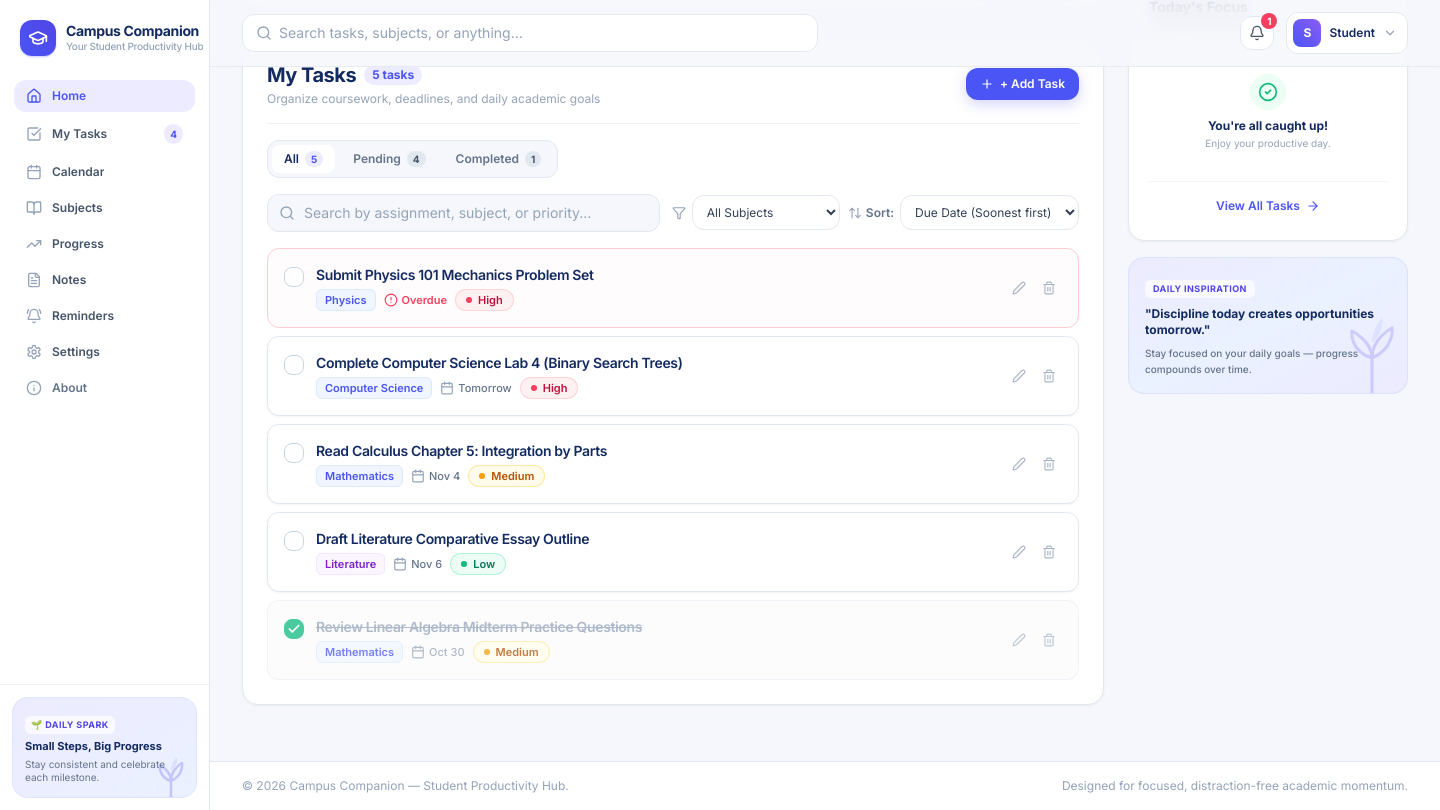
Scenario: Campus Companion Application › shows confirmation modal before deleting a task, allows cancel and confirm
(page scrolled)
Click the button named "Delete Draft Literature Comparative Essay Outline": (1049, 552) x1=1036 y1=538 x2=1062 y2=564
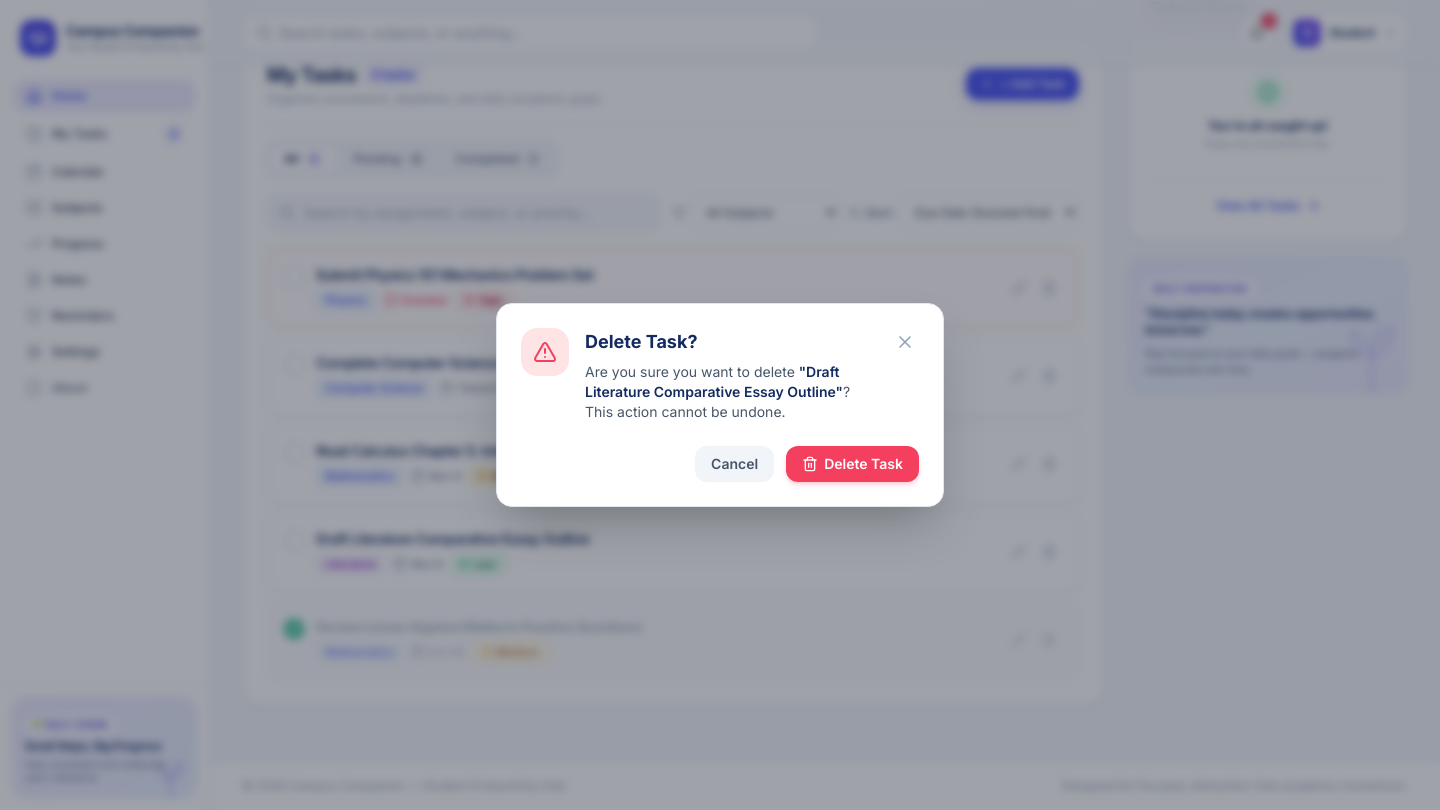
Expected: the dialog is shown
Expected: the heading "Delete Task?" is shown, x1=585 y1=331 x2=698 y2=352
// Test Cancel
Click the button "Cancel": (735, 464) x1=695 y1=446 x2=774 y2=482
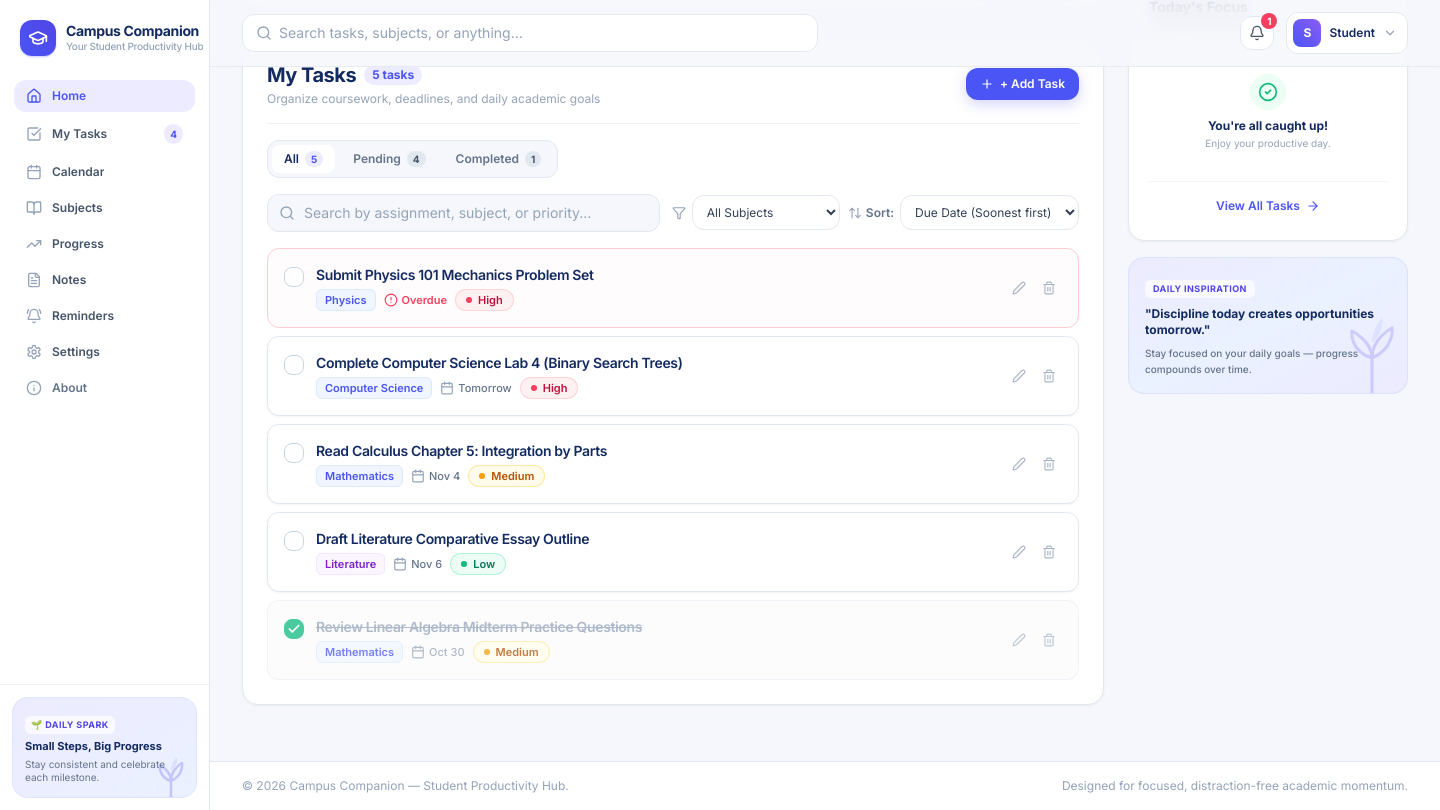
Expected: the text "Draft Literature Comparative Essay Outline" is shown, x1=316 y1=528 x2=589 y2=548
Expected: the dialog is gone
// Test Confirm Delete
Click the button named "Delete Draft Literature Comparative Essay Outline": (1049, 552) x1=1036 y1=538 x2=1062 y2=564
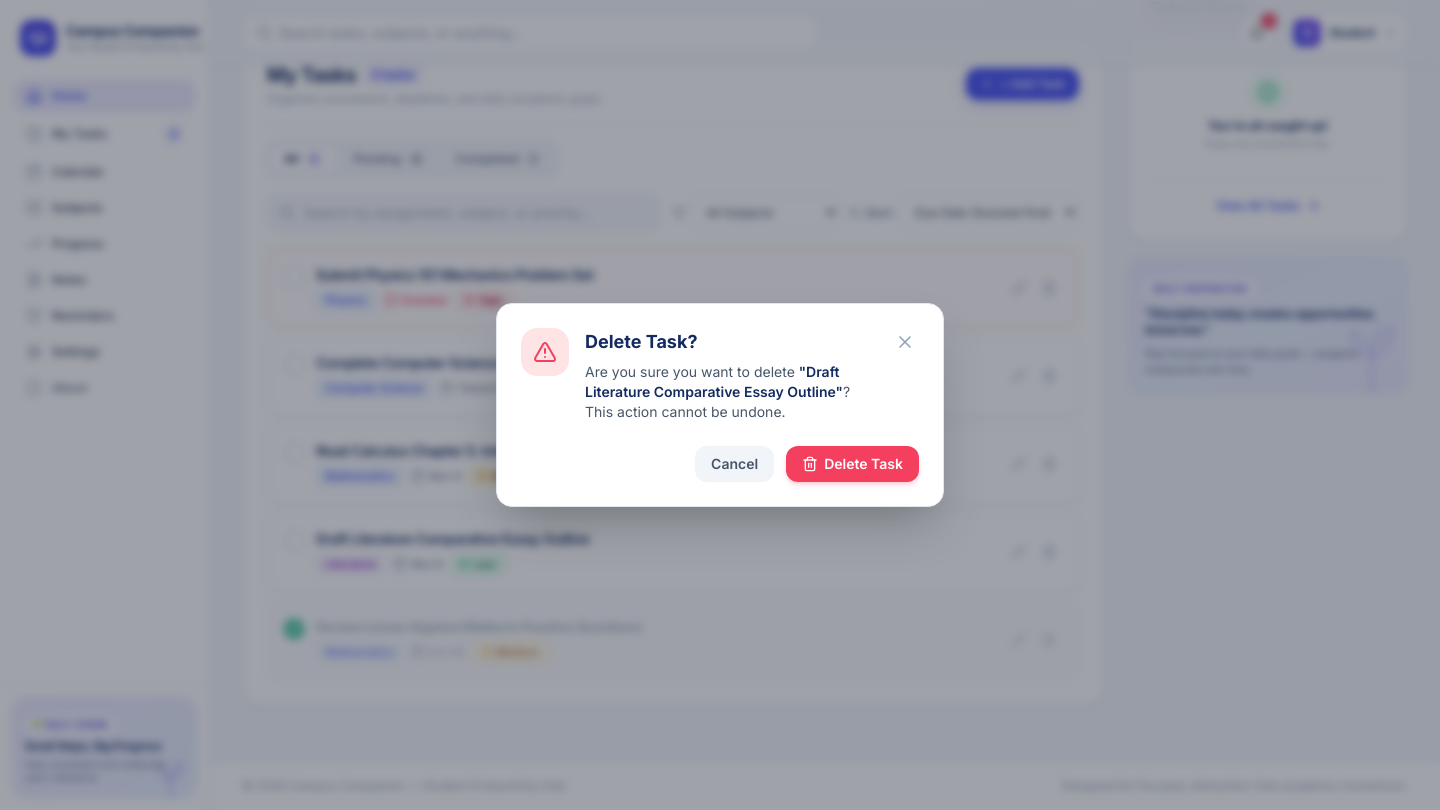
Click the button "Delete Task": (853, 464) x1=786 y1=446 x2=919 y2=482
(page scrolled)
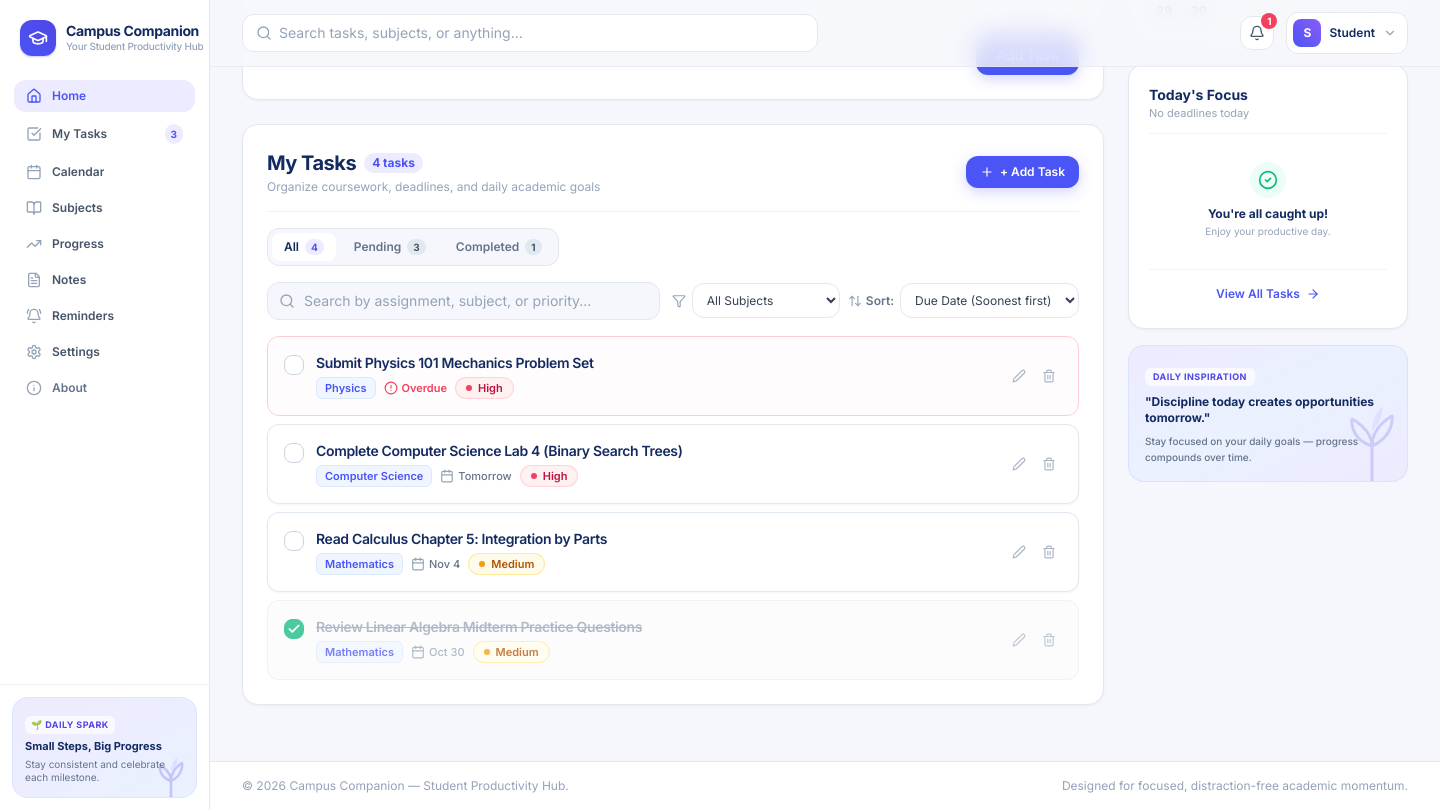
Expected: the text "Draft Literature Comparative Essay Outline" is gone
